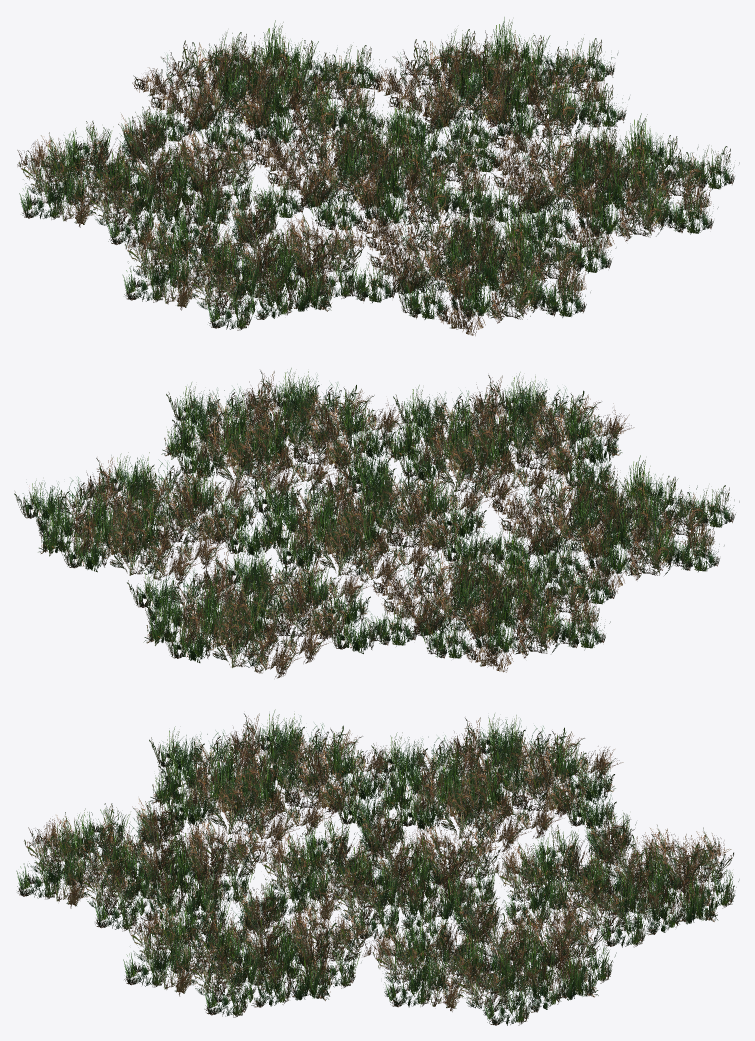
Rendered from grass_big_tall.fbx.
3 views of the same model, one above another, from view 1: azimuth 30°, elevation 25°; view 2: azimuth 150°, elevation 25°; view 3: azimuth 270°, elevation 25° (orthographic). The views are drawn at different scales.
Parts seen in each view (by area): view 1: leaf_bigpatch_big_mesh; view 2: leaf_bigpatch_big_mesh; view 3: leaf_bigpatch_big_mesh.
Part boxes in pixels (box(x1,y1,x2,y2)): leaf_bigpatch_big_mesh: box(17, 17, 739, 335); leaf_bigpatch_big_mesh: box(14, 368, 739, 678); leaf_bigpatch_big_mesh: box(16, 709, 739, 1025).
Bounding box in the file's own units: 41.87 × 3.72 × 43.61.
Materials: 1 (1 with a texture image).
